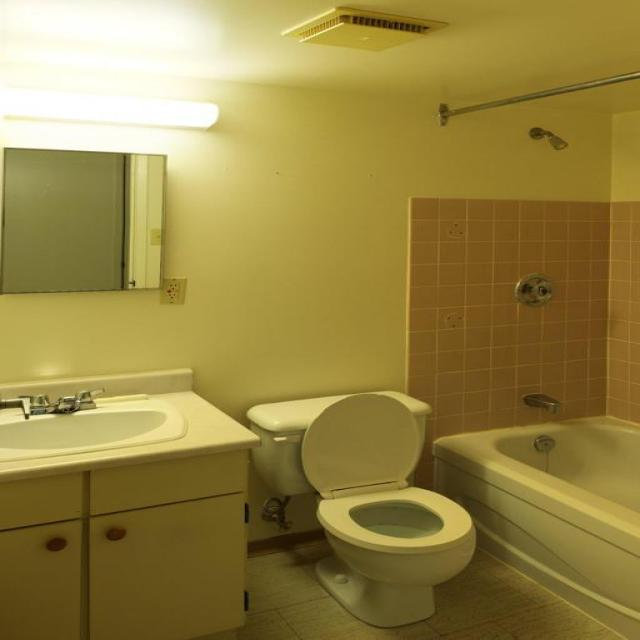faucet: (521, 392, 561, 414)
window: (0, 146, 166, 294)
